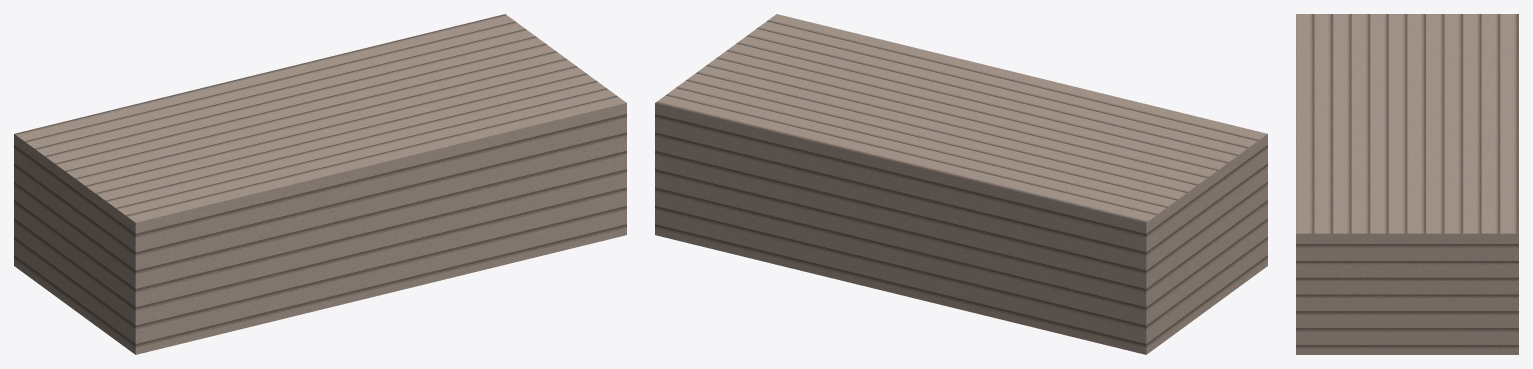
The model's file is jury_box_seating.glb.
The picture shows the model from 3 angles, left to right: view 1: azimuth 30°, elevation 25°; view 2: azimuth 150°, elevation 25°; view 3: azimuth 270°, elevation 25°; orthographic projection. The views are drawn at different scales.
Parts seen in each view (by area): view 1: jury_box_seating-col; view 2: jury_box_seating-col; view 3: jury_box_seating-col.
Boxes of the visible parts, x1,y1,x2,y2 form: jury_box_seating-col: (14, 14, 626, 354); jury_box_seating-col: (655, 14, 1267, 354); jury_box_seating-col: (1296, 14, 1518, 354).
Bounding box in the file's own units: 3.5 × 0.9 × 1.5.
Materials: 1 (1 with a texture image).
